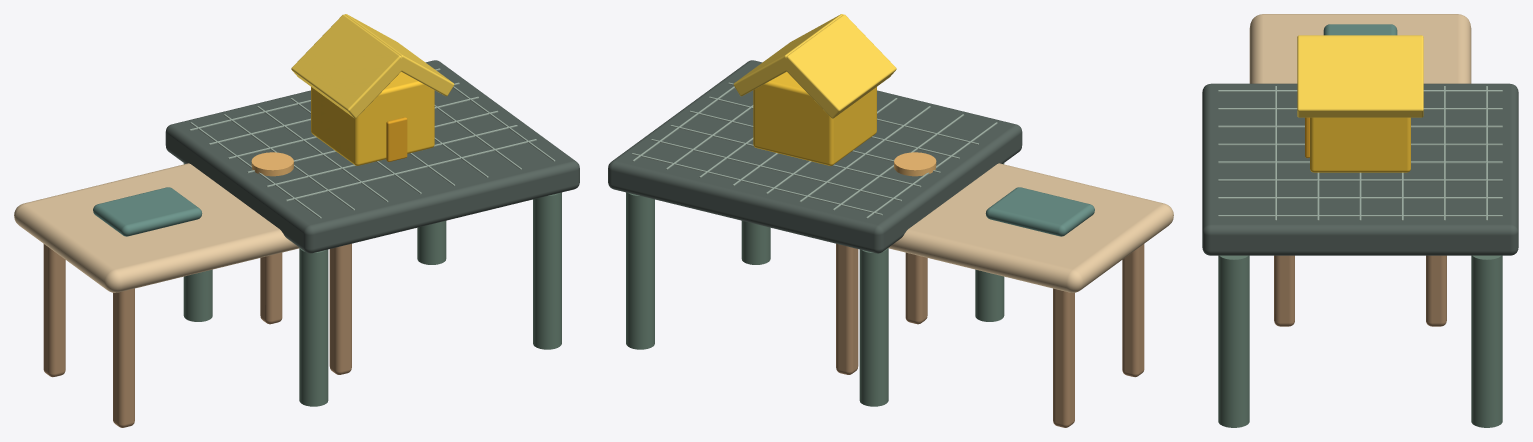
The model's file is desk.glb.
3 renders of one model, left to right at view 1: azimuth 30°, elevation 25°; view 2: azimuth 150°, elevation 25°; view 3: azimuth 270°, elevation 25°, orthographic. The views are drawn at different scales.
Visible parts, largest first — view 1: desk; view 2: desk; view 3: desk.
Part boxes in pixels (x1,y1,x2,y2): desk: (14, 14, 579, 427); desk: (608, 14, 1173, 427); desk: (1202, 14, 1518, 427).
Size of the model in its own units: 2.7 by 1.69 by 1.5.
